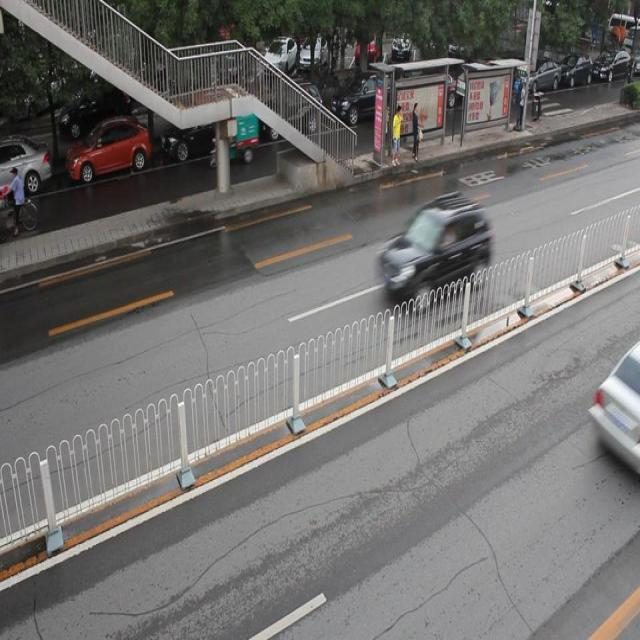car: (373, 203, 492, 311), (588, 343, 640, 471), (66, 117, 152, 183), (159, 104, 250, 160), (258, 80, 322, 140), (335, 69, 399, 125), (1, 137, 52, 195)
